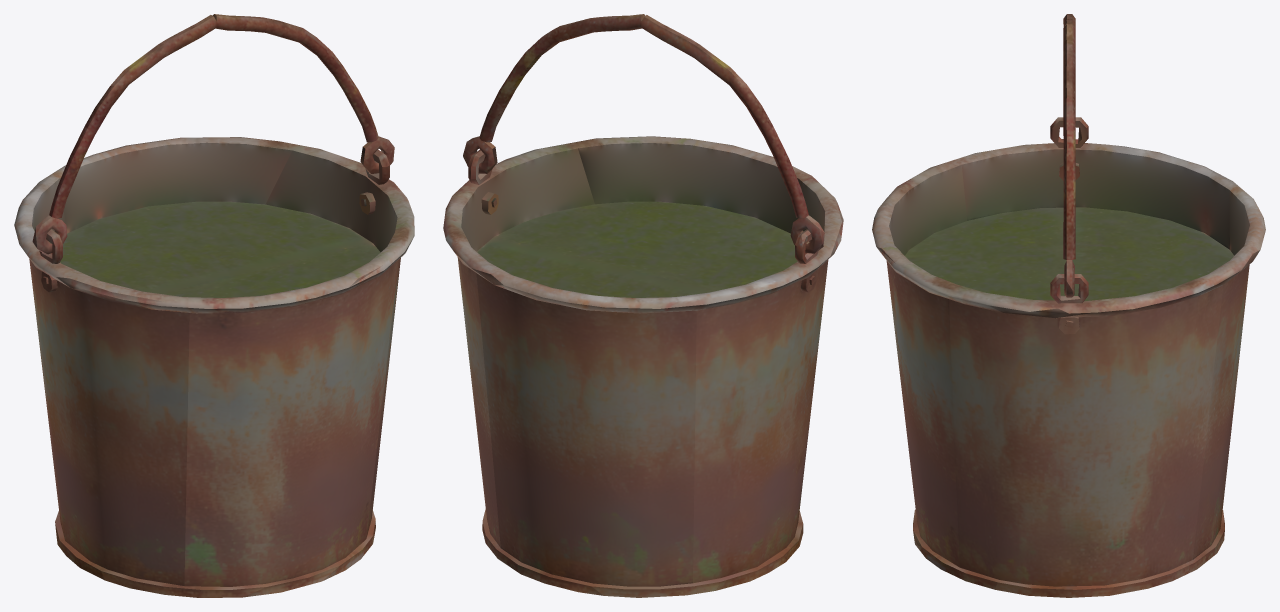
Rendered from rusty_water_bucket_lp2_textured.glb.
The picture shows the model from 3 angles, left to right: view 1: azimuth 30°, elevation 25°; view 2: azimuth 150°, elevation 25°; view 3: azimuth 270°, elevation 25°; orthographic projection.
Visible parts, largest first — view 1: texture_pbr_v128; view 2: texture_pbr_v128; view 3: texture_pbr_v128.
Part boxes in pixels (x1,y1,x2,y2): texture_pbr_v128: (14, 14, 414, 597); texture_pbr_v128: (443, 14, 843, 597); texture_pbr_v128: (872, 14, 1265, 597).
Bounding box in the file's own units: 0.4366 × 0.6003 × 0.421.
1 material, 1 textured.
